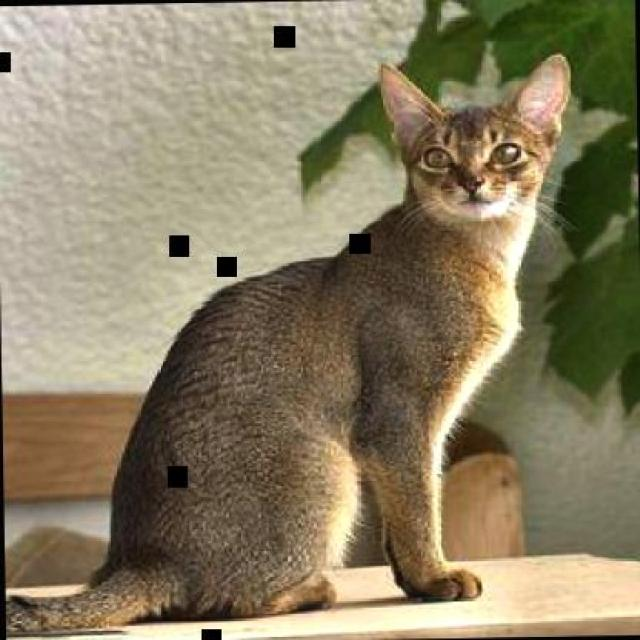cat: (0, 51, 588, 638)
